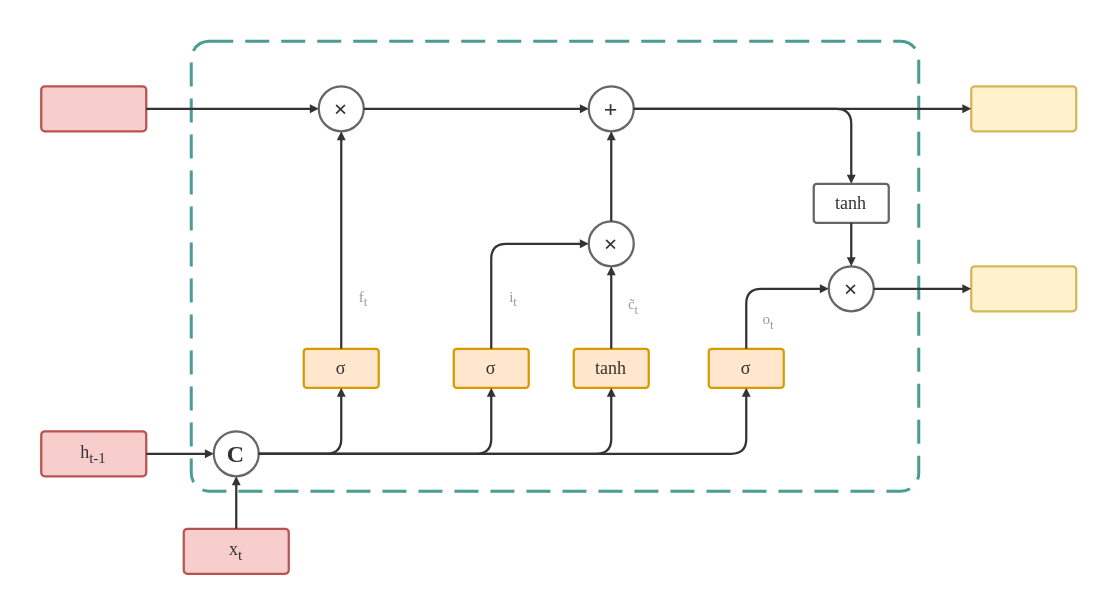
The diagram is 1116 pixels wide and 614 high, and some of its shapes have lost their labels. The shapes that lost their labels are listed below. From the top down, each one's box as (x1, y1, x2, y2) in pixels, then its label:
(39, 84, 147, 132): c t-1
(969, 84, 1077, 132): c t
(189, 39, 920, 492): LSTM Cell
(969, 264, 1077, 312): h t
